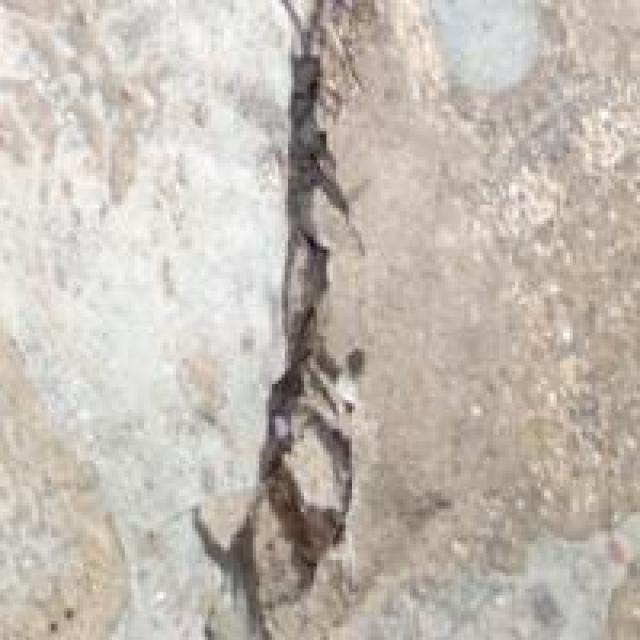SurfaceCrack: (160, 44, 402, 640)
